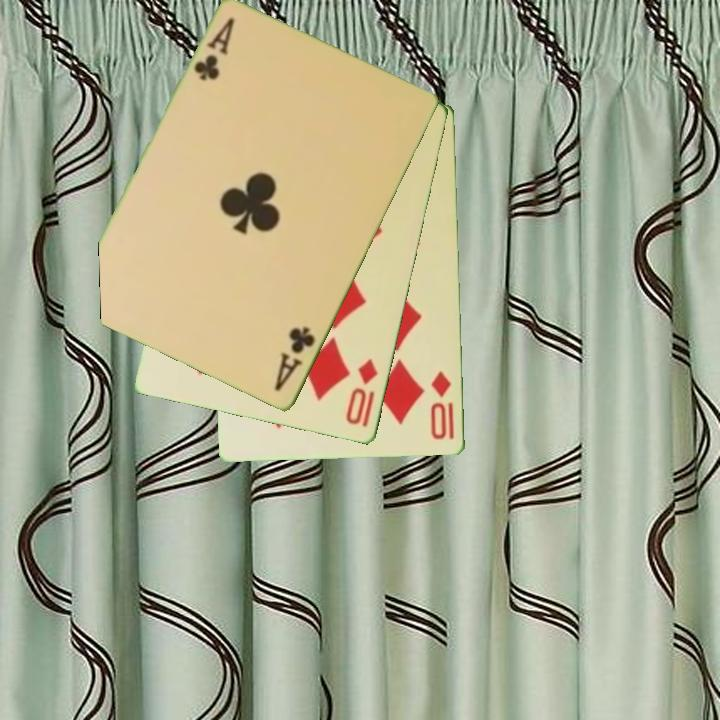10d: (342, 355, 382, 431), (428, 368, 458, 443)
Ac: (271, 324, 319, 395), (190, 15, 238, 85)
